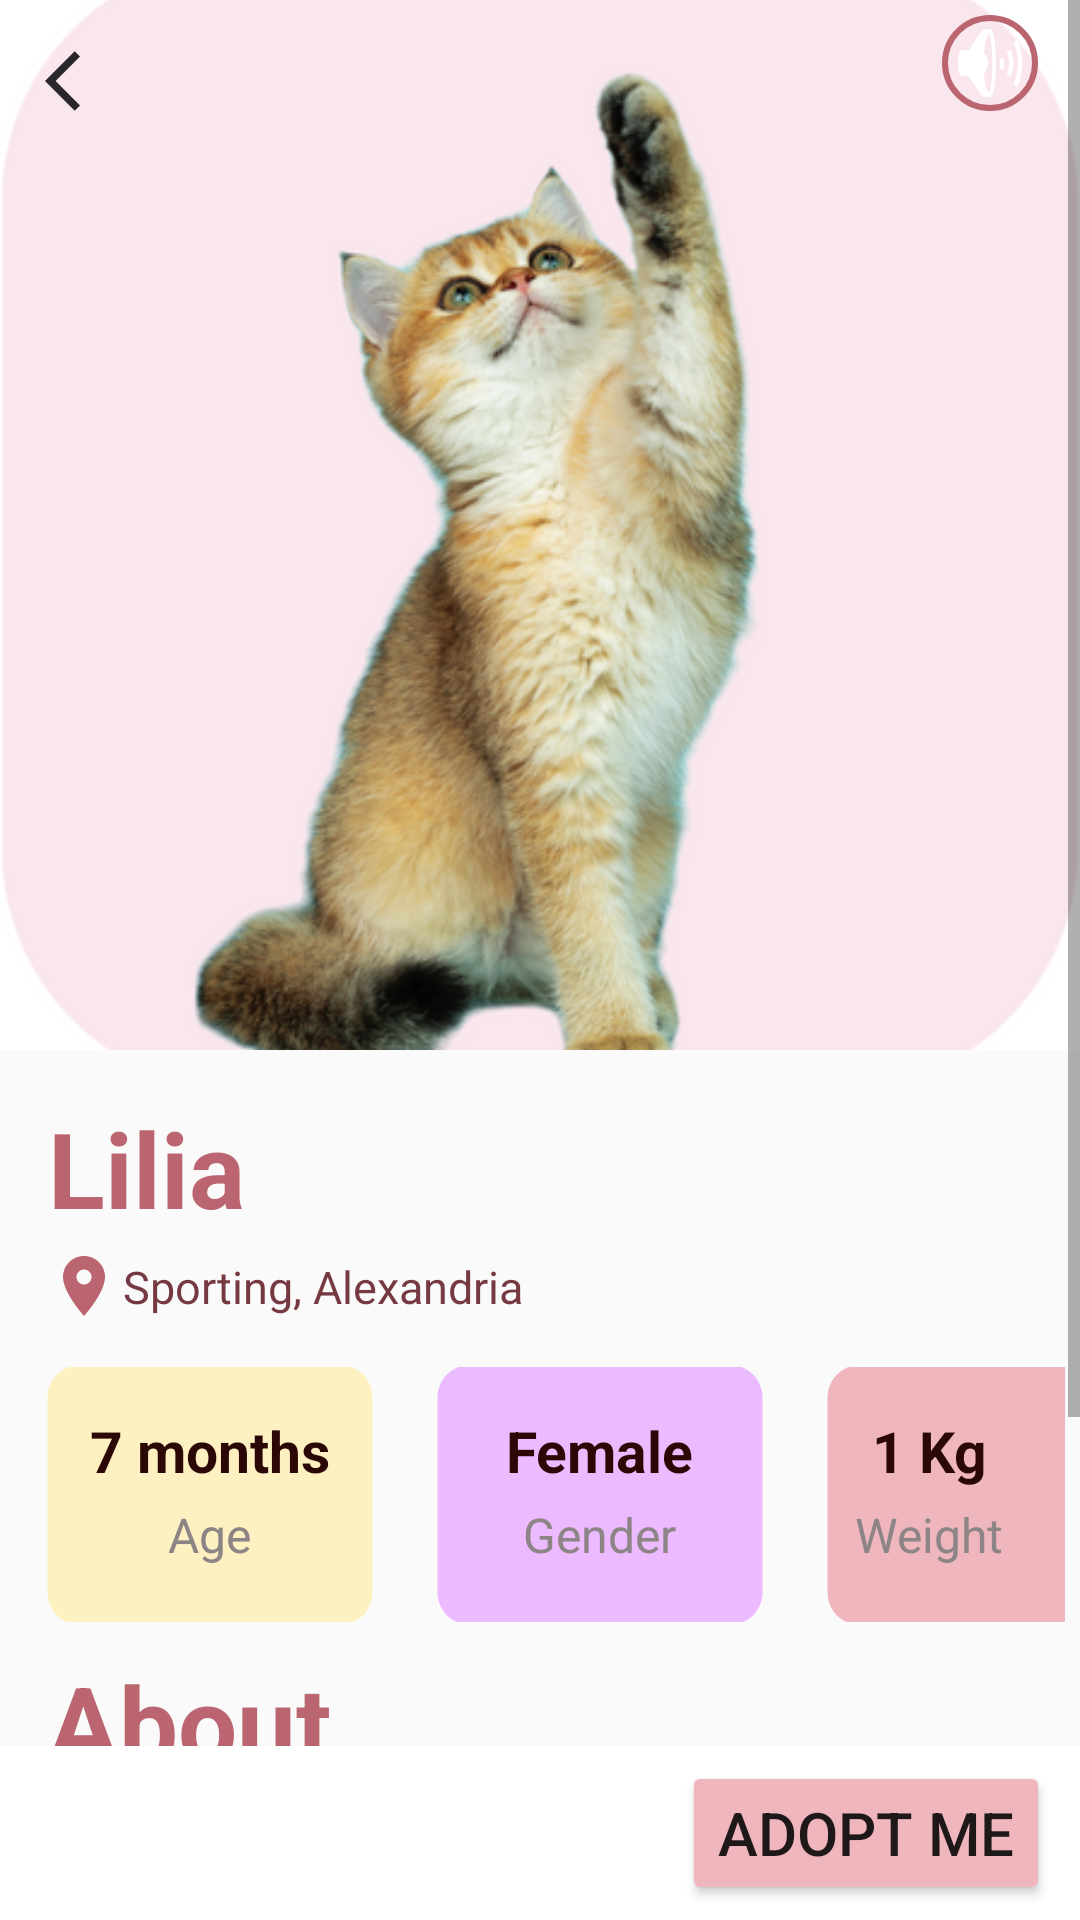

Where to tap for icons on this 1080 × 1920 app screen, as point (x, y):
location on: point (84, 1286)
